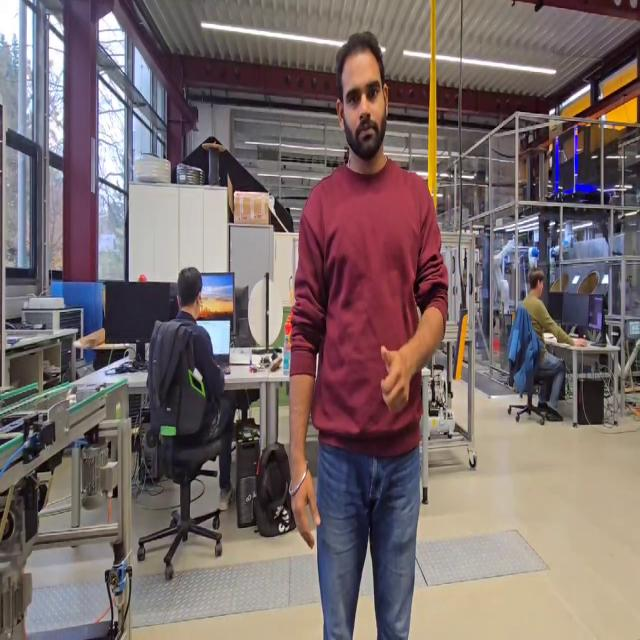thumbs_up: (376, 338, 414, 419)
